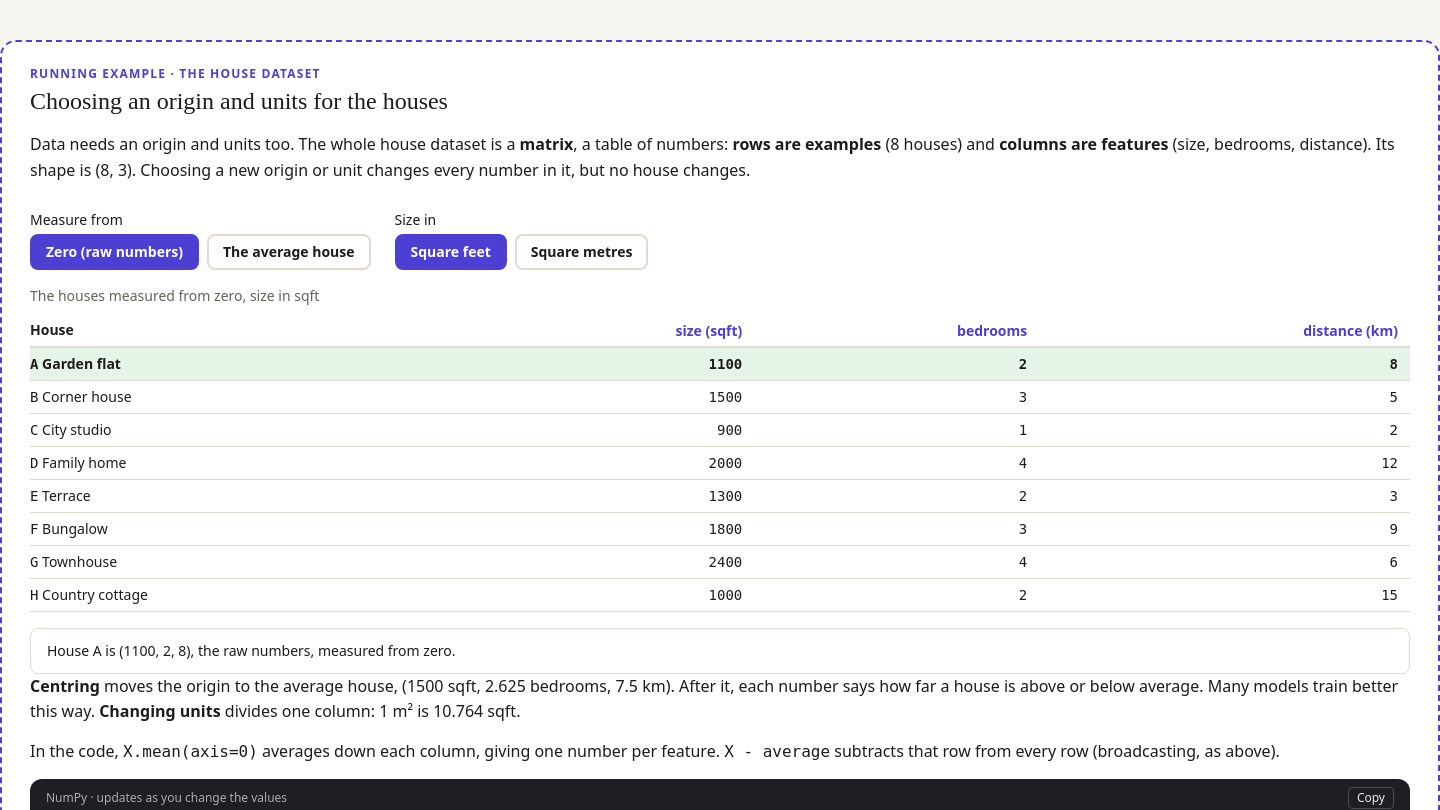
running example: an origin and units for the houses › renders the section; the origin and unit choices change the table
Expected: the heading "Choosing an origin and units for the houses" is shown, x1=30 y1=88 x2=448 y2=114
Expected: the text "rows are examples" is shown, x1=732 y1=133 x2=881 y2=155
What coordinates should you click on to do the following:
click the button "The average house"
I would click on:
 (289, 252)
Its box is x1=207 y1=234 x2=370 y2=270.
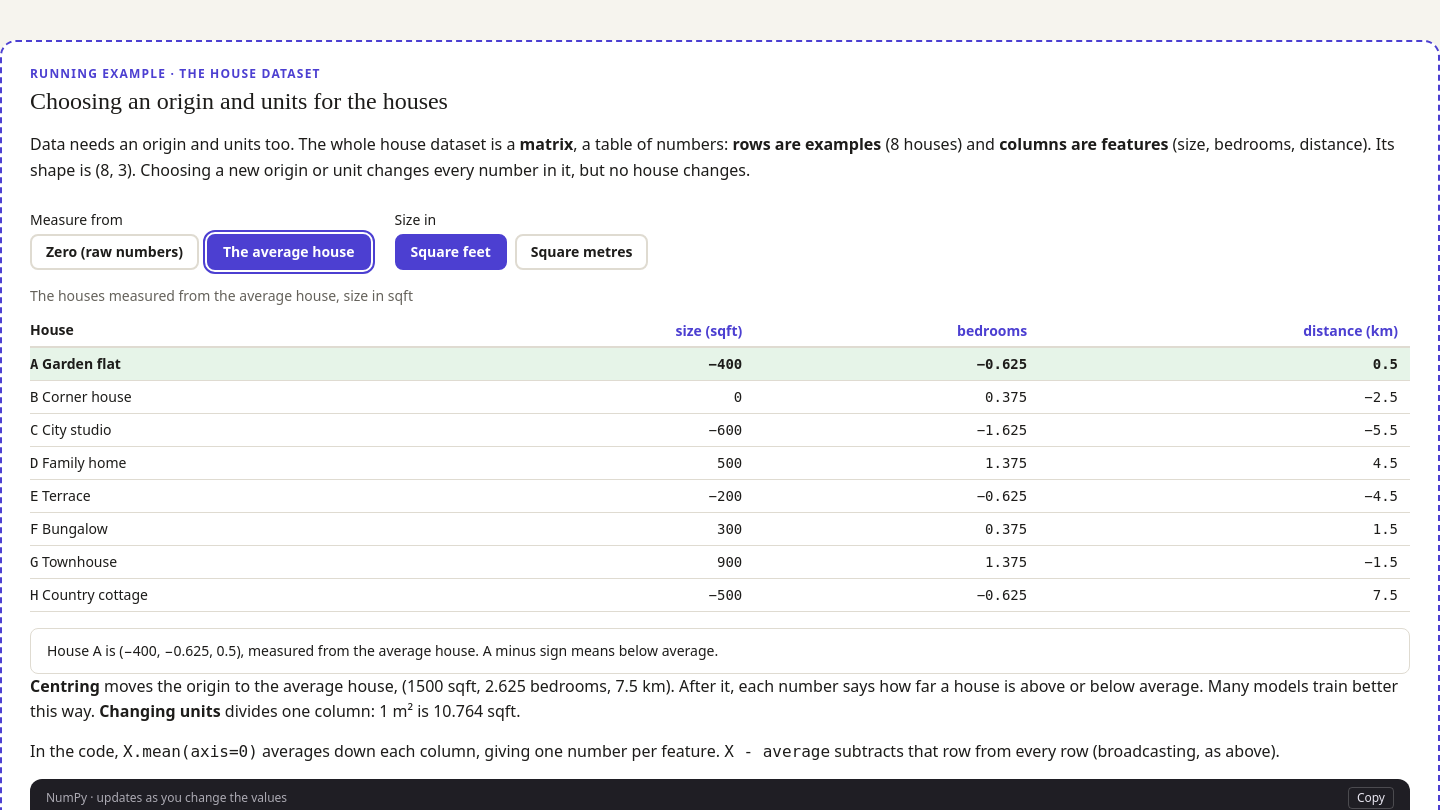
Expected: the text "House A is (−400, −0.625, 0.5), measured from the average house." is shown, x1=30 y1=628 x2=1410 y2=674
What coordinates should you click on to do the following:
click the button "Square metres"
I would click on:
 (582, 252)
Its box is x1=515 y1=234 x2=648 y2=270.
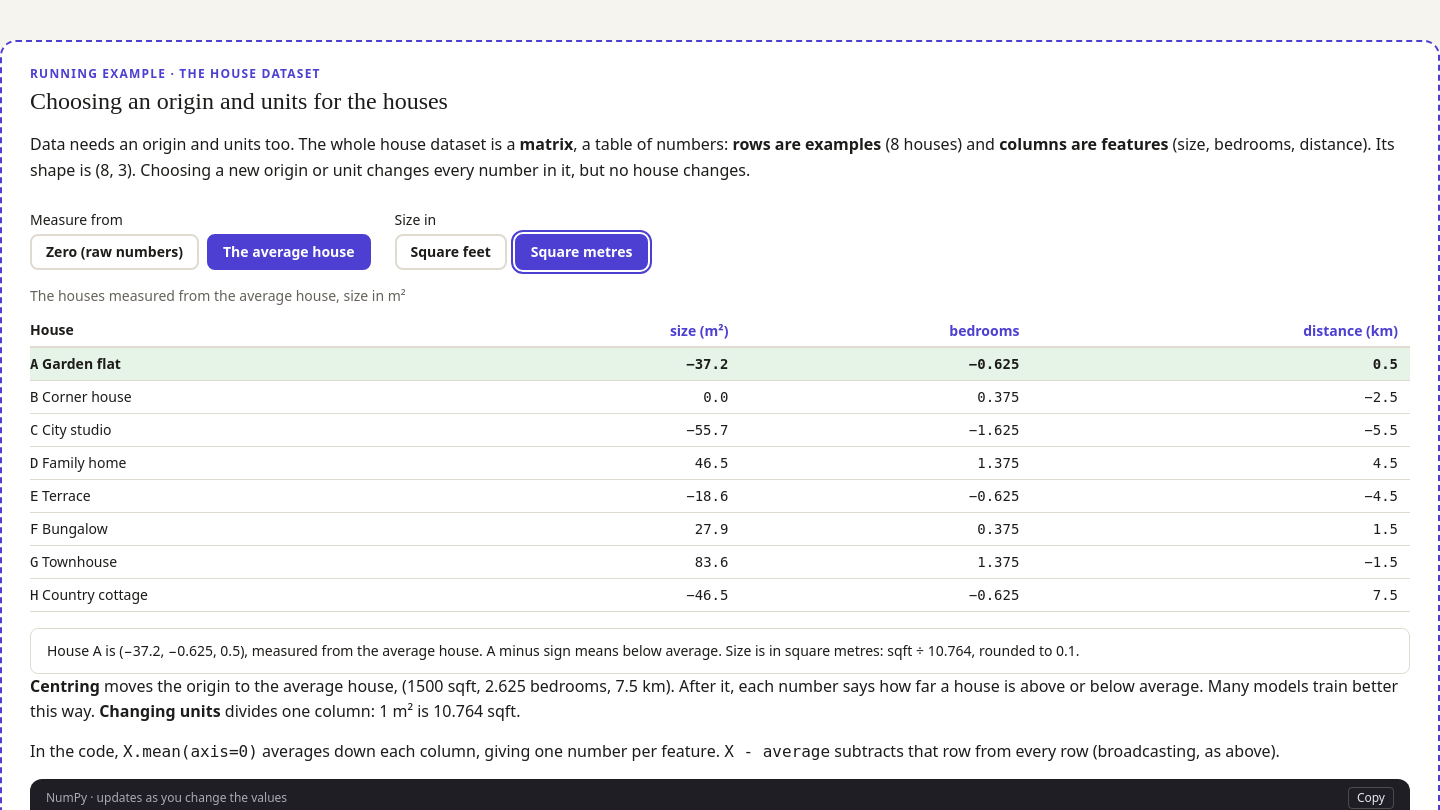
Expected: the text "House A is (−37.2, −0.625, 0.5)" is shown, x1=30 y1=628 x2=1410 y2=674
Expected: the text "sqft ÷ 10.764" is shown, x1=722 y1=641 x2=1080 y2=660
Expected: the table shows "size (m²)", x1=670 y1=321 x2=728 y2=340
